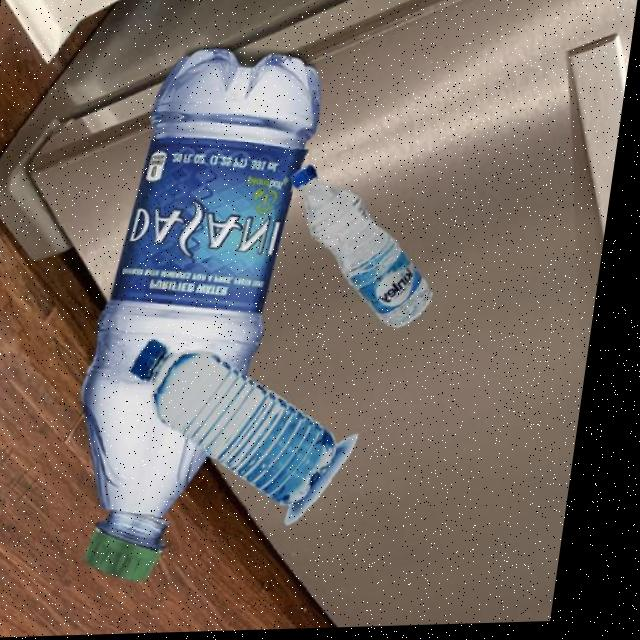litter: (79, 509, 204, 599), (128, 322, 192, 399), (286, 151, 331, 198)
